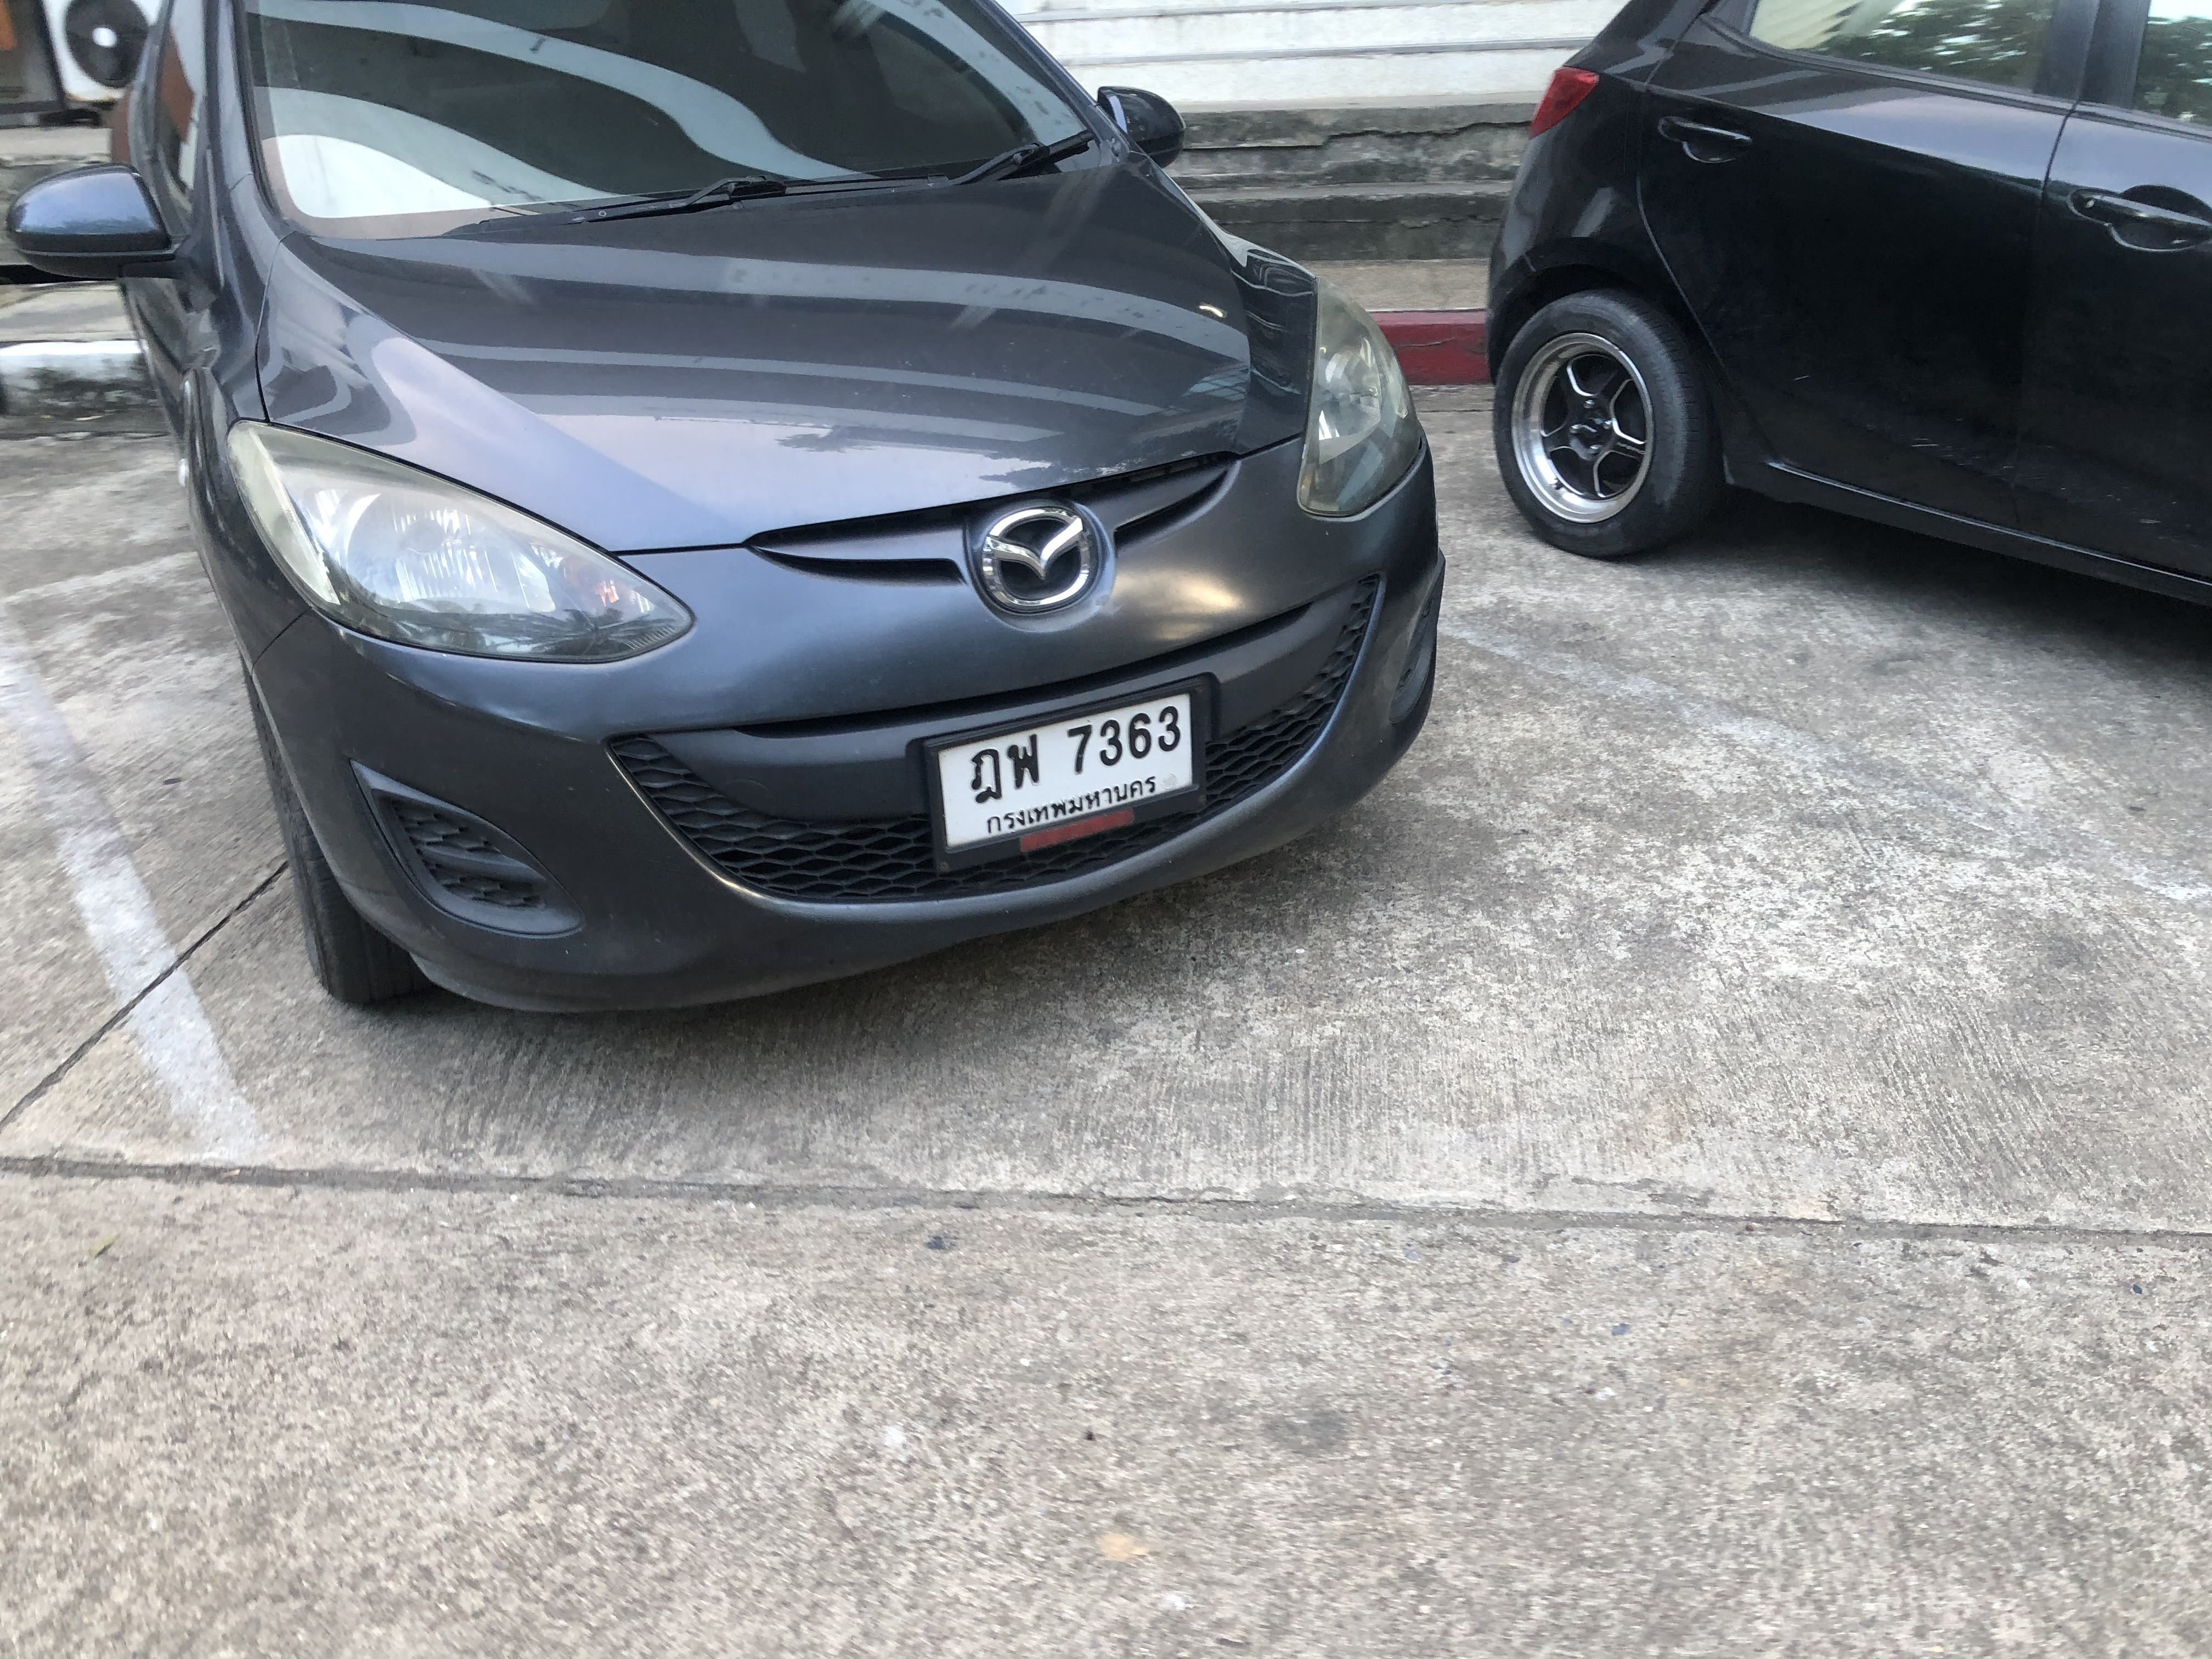in: (941, 697, 1197, 843)
out: (920, 676, 1214, 864)
